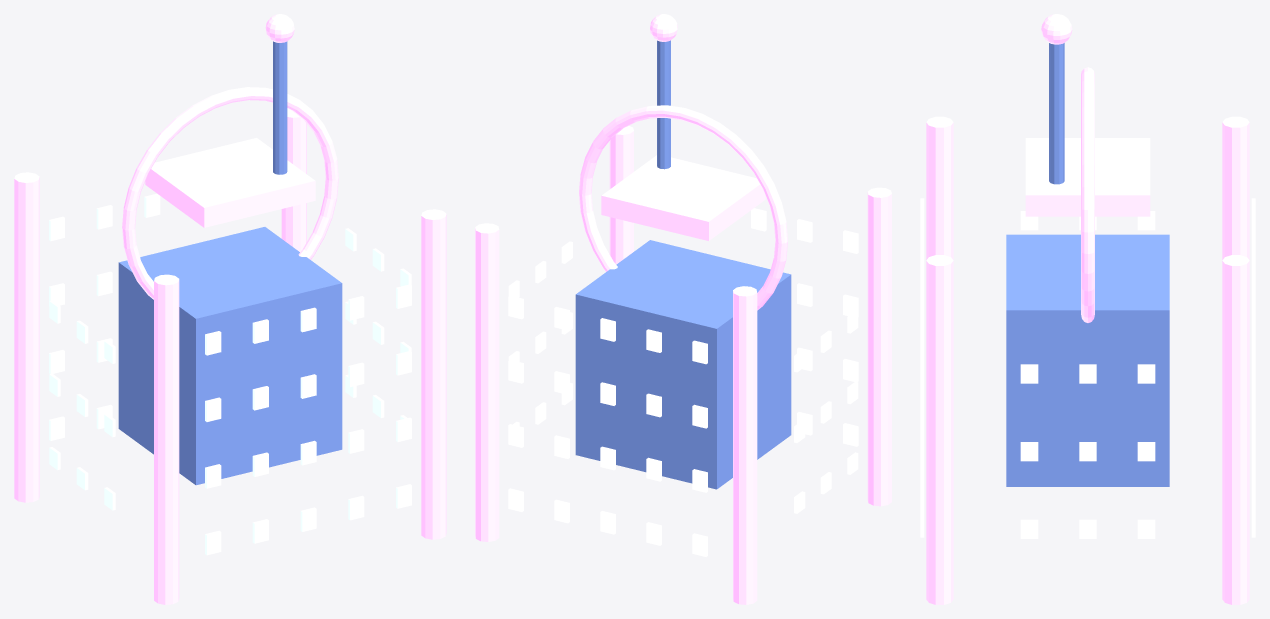
Rendered from city_module_asset.glb.
3 renders of one model, left to right at view 1: azimuth 30°, elevation 25°; view 2: azimuth 150°, elevation 25°; view 3: azimuth 270°, elevation 25°, orthographic. The views are drawn at different scales.
Parts seen in each view (by area): view 1: Cube, Cube.001, Cylinder.001, Cylinder, Cylinder.002, Torus.001, Cylinder.003, Cylinder.004, Sphere; view 2: Cube, Cube.001, Cylinder.003, Cylinder, Cylinder.001, Torus.001, Cylinder.002, Cylinder.004, Sphere; view 3: Cube, Cylinder.002, Cylinder.003, Cube.001, Cylinder, Cylinder.001, Torus.001, Cylinder.004, Sphere.
Boxes of the visible parts, x1=… form: Cube: x1=118, y1=227, x2=342, y2=485; Cube.001: x1=145, y1=138, x2=315, y2=227; Cylinder.001: x1=14, y1=172, x2=39, y2=502; Cylinder: x1=154, y1=274, x2=179, y2=604; Cylinder.002: x1=421, y1=209, x2=446, y2=539; Torus.001: x1=122, y1=87, x2=338, y2=299; Cylinder.003: x1=281, y1=108, x2=306, y2=251; Cylinder.004: x1=273, y1=41, x2=287, y2=174; Sphere: x1=265, y1=14, x2=294, y2=42; Cube: x1=575, y1=240, x2=791, y2=489; Cube.001: x1=601, y1=155, x2=765, y2=240; Cylinder.003: x1=475, y1=223, x2=499, y2=541; Cylinder: x1=867, y1=187, x2=891, y2=506; Cylinder.001: x1=733, y1=286, x2=757, y2=604; Torus.001: x1=579, y1=105, x2=787, y2=310; Cylinder.002: x1=609, y1=126, x2=633, y2=264; Cylinder.004: x1=657, y1=40, x2=670, y2=169; Sphere: x1=650, y1=14, x2=677, y2=41; Cube: x1=1006, y1=234, x2=1169, y2=486; Cylinder.002: x1=926, y1=255, x2=953, y2=604; Cylinder.003: x1=1222, y1=255, x2=1249, y2=604; Cube.001: x1=1025, y1=138, x2=1150, y2=216; Cylinder: x1=926, y1=116, x2=953, y2=259; Cylinder.001: x1=1222, y1=116, x2=1249, y2=259; Torus.001: x1=1081, y1=67, x2=1094, y2=322; Cylinder.004: x1=1049, y1=43, x2=1064, y2=184; Sphere: x1=1041, y1=14, x2=1072, y2=44.
Size of the model in its own units: 0.94 by 1.51 by 0.86.
